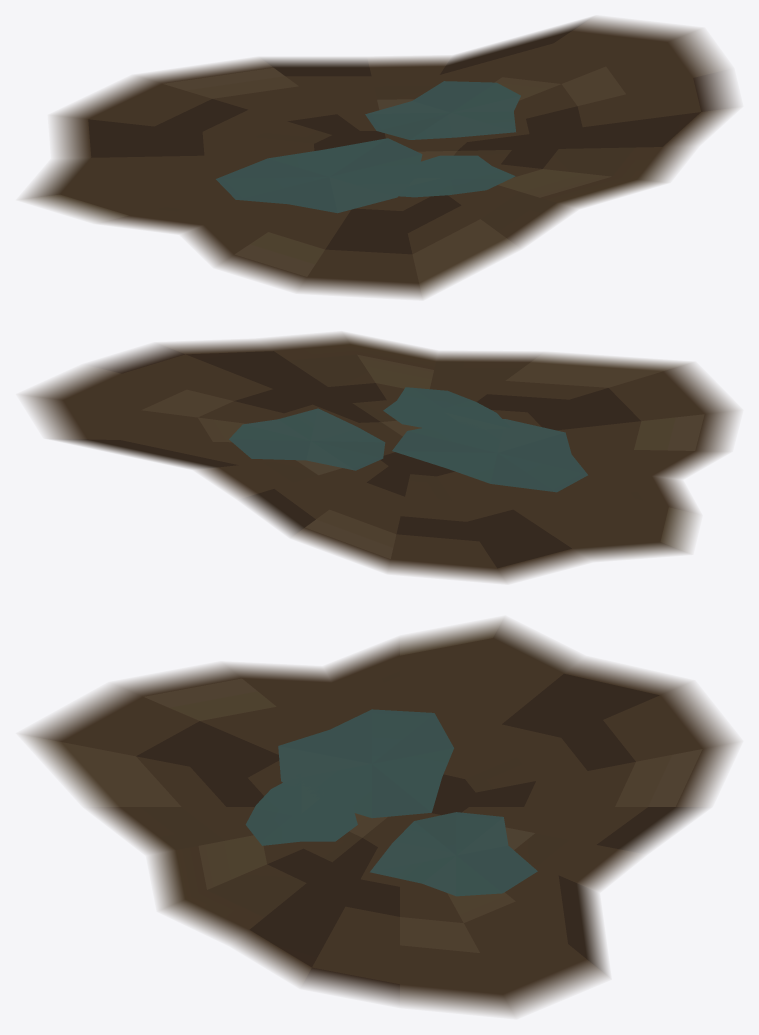
Rendered from swamp_b_low.glb.
3 renders of one model, top to bottom at view 1: azimuth 30°, elevation 25°; view 2: azimuth 150°, elevation 25°; view 3: azimuth 270°, elevation 25°, orthographic. The views are drawn at different scales.
Visible parts, largest first — view 1: swamp_b; view 2: swamp_b; view 3: swamp_b.
Boxes of the visible parts, x1=… form: swamp_b: x1=21, y1=17, x2=737, y2=298; swamp_b: x1=22, y1=333, x2=738, y2=582; swamp_b: x1=21, y1=618, x2=737, y2=1016.
Size of the model in its own units: 8.53 by 0.015 by 6.49.
